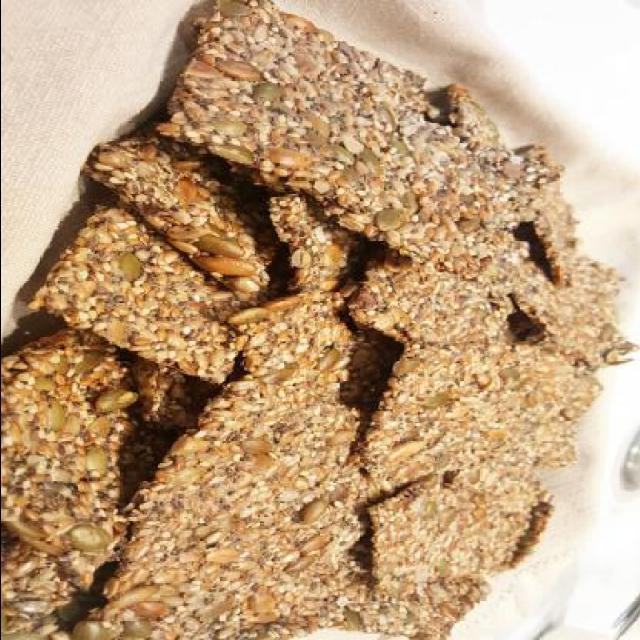Cracker packaged: (150, 14, 407, 220), (358, 328, 534, 478), (350, 476, 498, 596)
